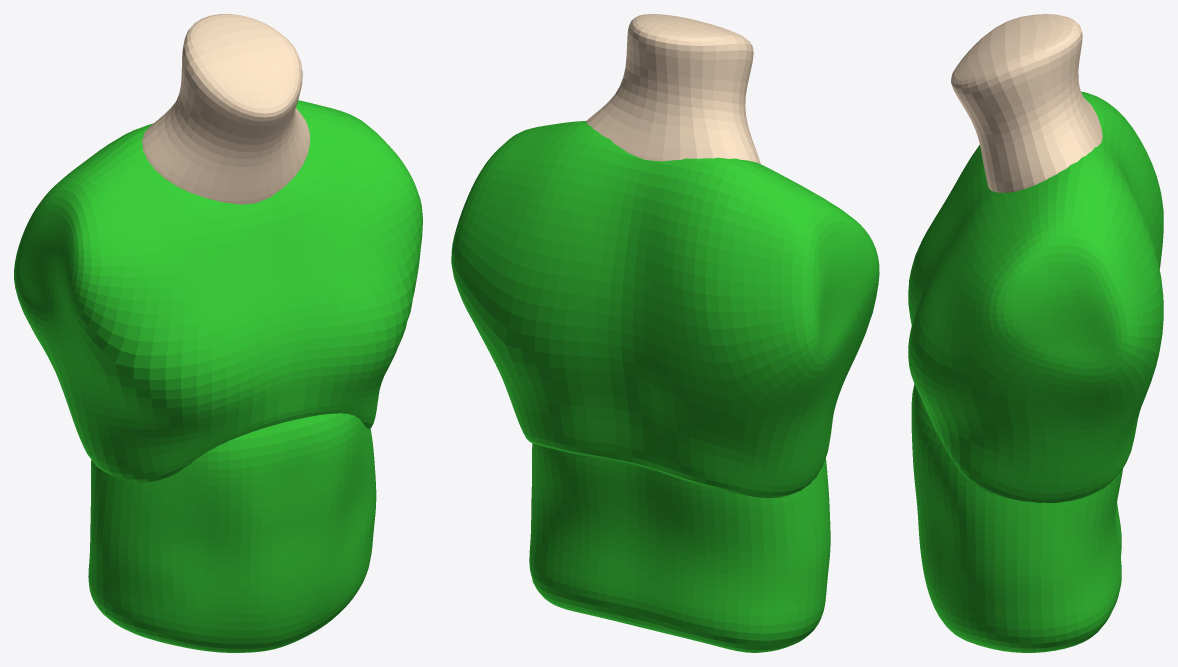
Rendered from Chest.fbx.
3 renders of one model, left to right at view 1: azimuth 30°, elevation 25°; view 2: azimuth 150°, elevation 25°; view 3: azimuth 270°, elevation 25°, orthographic. The views are drawn at different scales.
Parts seen in each view (by area): view 1: Chest; view 2: Chest; view 3: Chest.
Boxes of the visible parts, x1,y1,x2,y2 form: Chest: (14, 14, 422, 652); Chest: (451, 14, 879, 652); Chest: (908, 14, 1163, 652).
Bounding box in the file's own units: 0.3973 × 0.646 × 0.2516.
